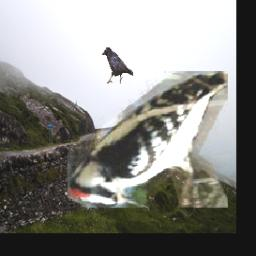Crow: (101, 47, 133, 84)
Woodpecker: (68, 71, 229, 208)
